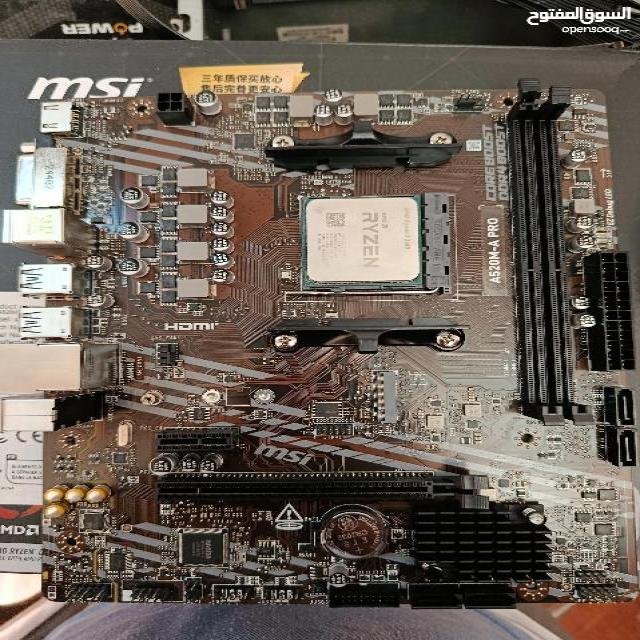CPU: (296, 194, 430, 294)
